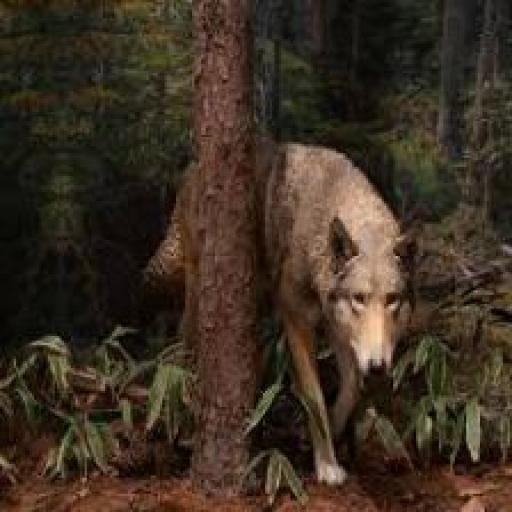wolf: (153, 121, 421, 500)
